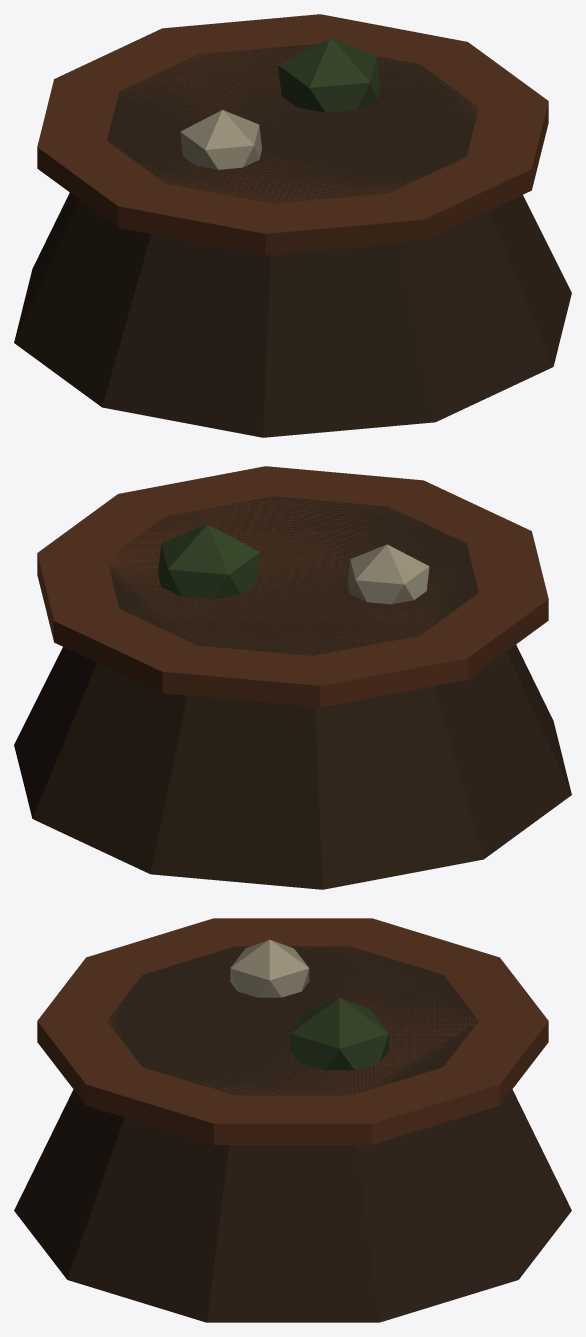
Rendered from stew.glb.
3 renders of one model, top to bottom at view 1: azimuth 30°, elevation 25°; view 2: azimuth 150°, elevation 25°; view 3: azimuth 270°, elevation 25°, orthographic. The views are drawn at different scales.
Parts seen in each view (by area): view 1: Stew; view 2: Stew; view 3: Stew.
Boxes of the visible parts, box(x1,y1,x2,y2) form: Stew: box(14, 14, 571, 437); Stew: box(14, 466, 571, 889); Stew: box(14, 918, 571, 1322).
Bounding box in the file's own units: 0.2283 × 0.115 × 0.24.
